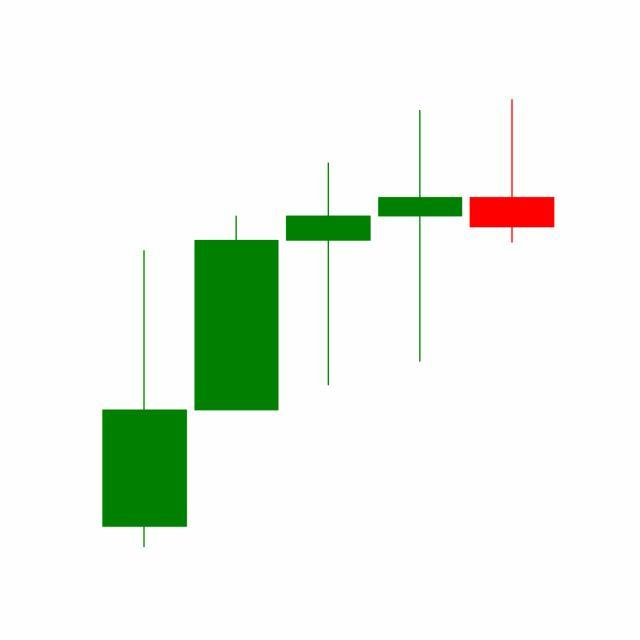Spinning Top: (374, 107, 468, 365)
